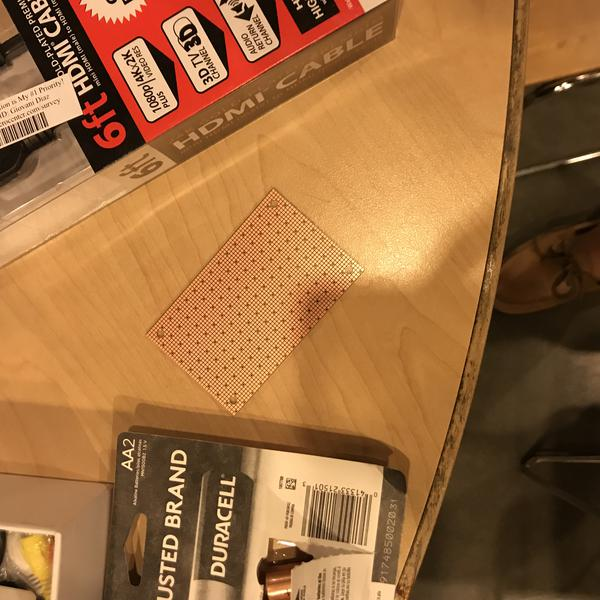board: (141, 185, 366, 420)
